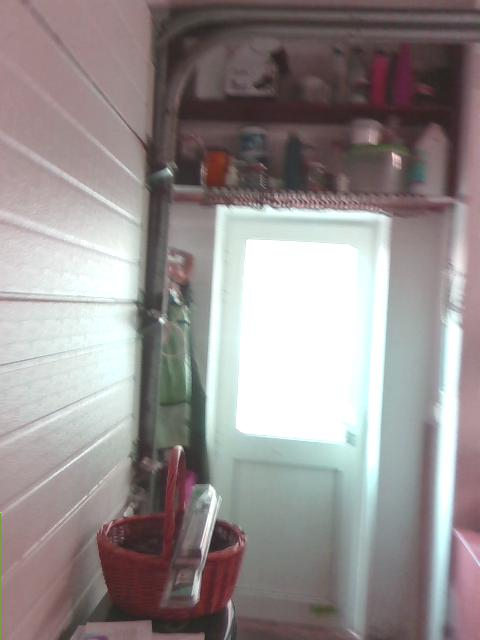closed_door: (207, 203, 388, 638)
